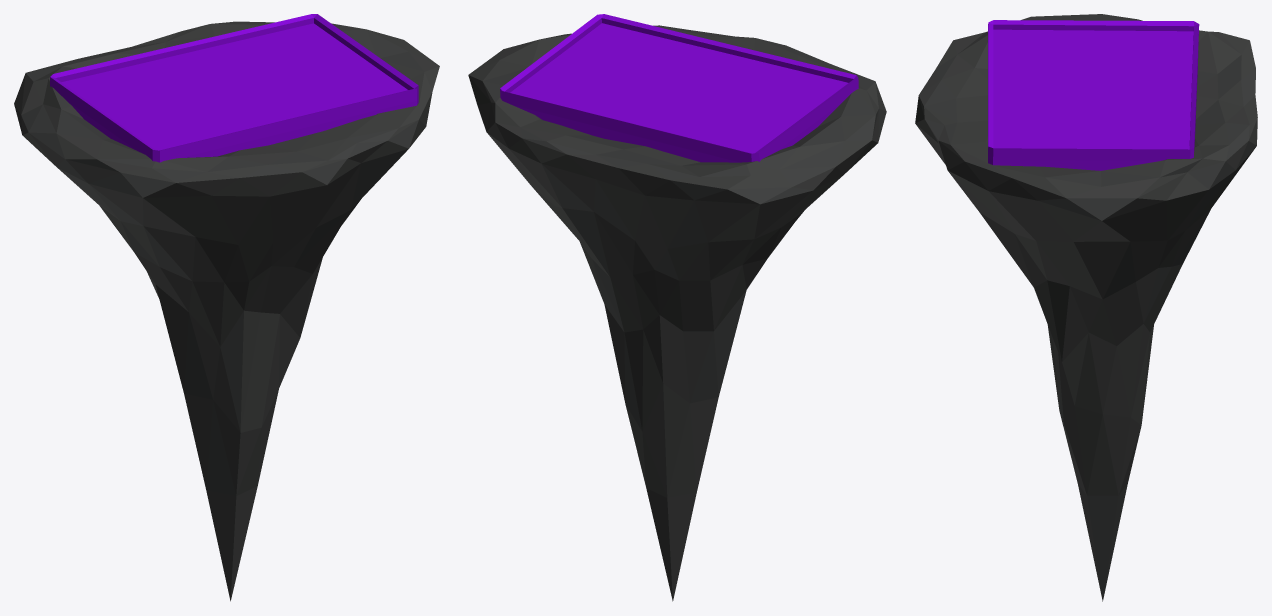
File: arena.glb
3 views of the same model, side by side, from view 1: azimuth 30°, elevation 25°; view 2: azimuth 150°, elevation 25°; view 3: azimuth 270°, elevation 25° (orthographic).
Visible parts, largest first — view 1: Icosphere.004; view 2: Icosphere.004; view 3: Icosphere.004.
Boxes of the visible parts, x1,y1,x2,y2 form: Icosphere.004: (14, 14, 439, 601); Icosphere.004: (468, 14, 886, 601); Icosphere.004: (915, 14, 1257, 601).
Size of the model in its own units: 1.87 by 2.45 by 1.47.
